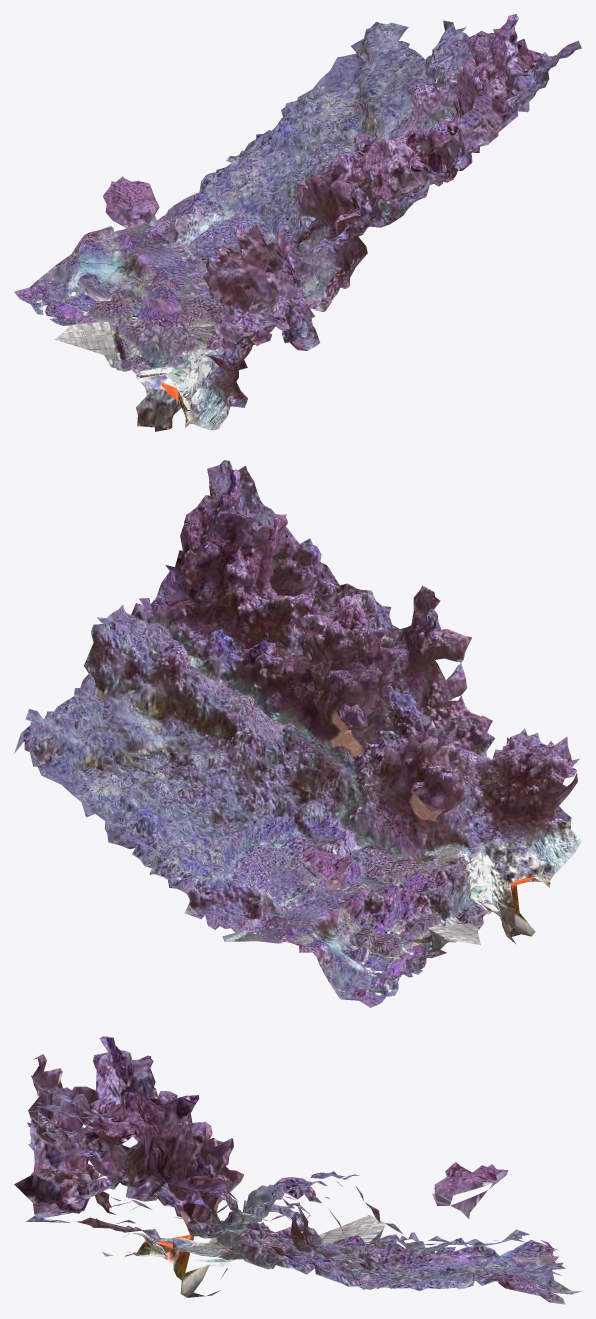
The model's file is Tile_+012_+019_L19_000023.glb.
3 renders of one model, top to bottom at view 1: azimuth 30°, elevation 25°; view 2: azimuth 150°, elevation 25°; view 3: azimuth 270°, elevation 25°, orthographic. The views are drawn at different scales.
Parts seen in each view (by area): view 1: rtc; view 2: rtc; view 3: rtc.
Part boxes in pixels (x1,y1,x2,y2): rtc: [14, 14, 581, 431]; rtc: [14, 460, 581, 1007]; rtc: [14, 1036, 581, 1304].
Bounding box in the file's own units: 57.44 × 49.36 × 55.85.
1 material, 1 textured.
